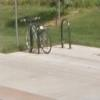Bicycle: (12, 14, 65, 65)
